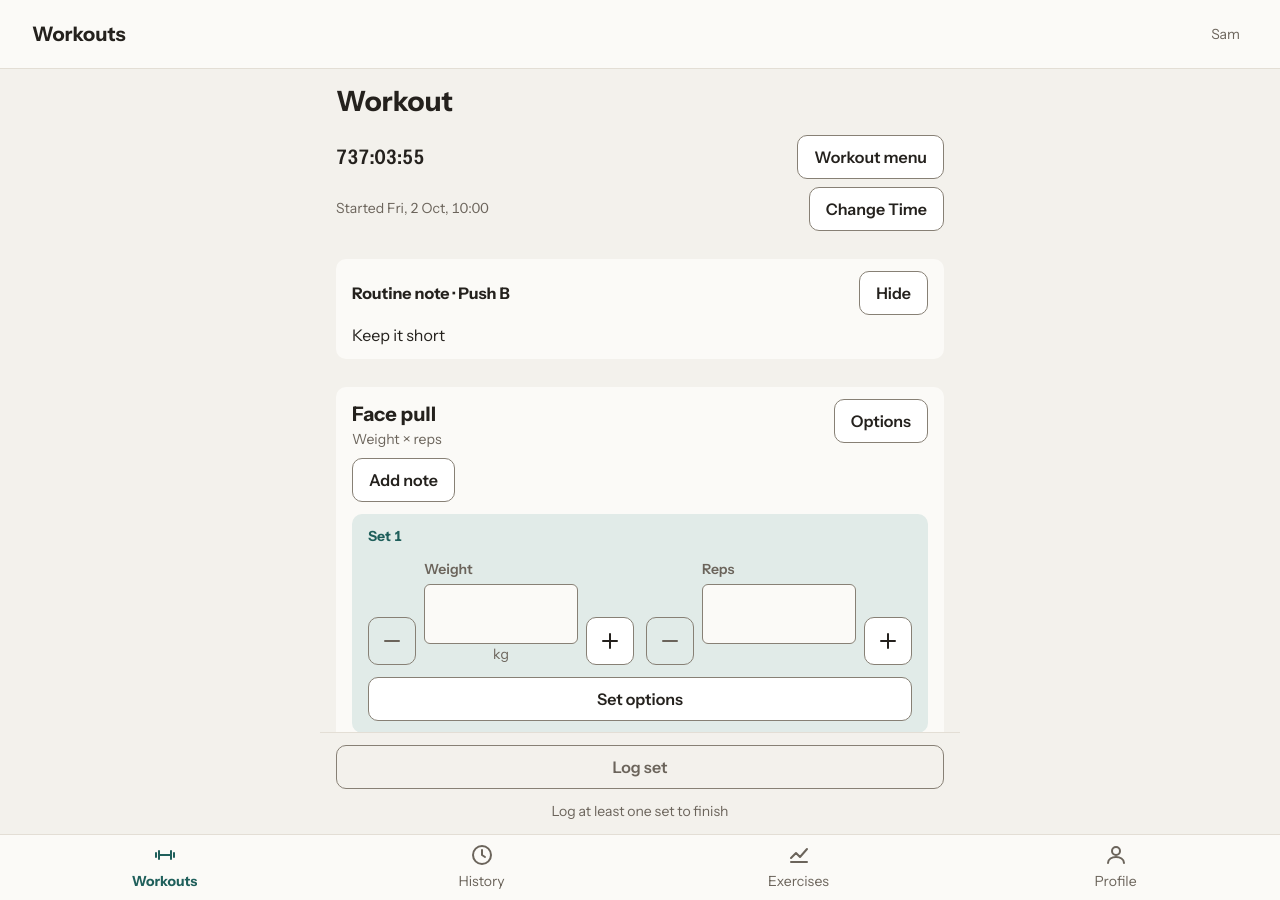
Test: 10.3 AC25 — the routine-note panel › is expanded on mount, headed by the routine name; Hide collapses it to one Show line and Show re-expands it
Expected: the heading "Workout" is shown, [336, 84, 453, 118]
Expected: the text "Keep it short" is shown, [352, 325, 445, 345]
Click the button with aria-label "Hide routine note": (894, 293) [859, 271, 928, 315]
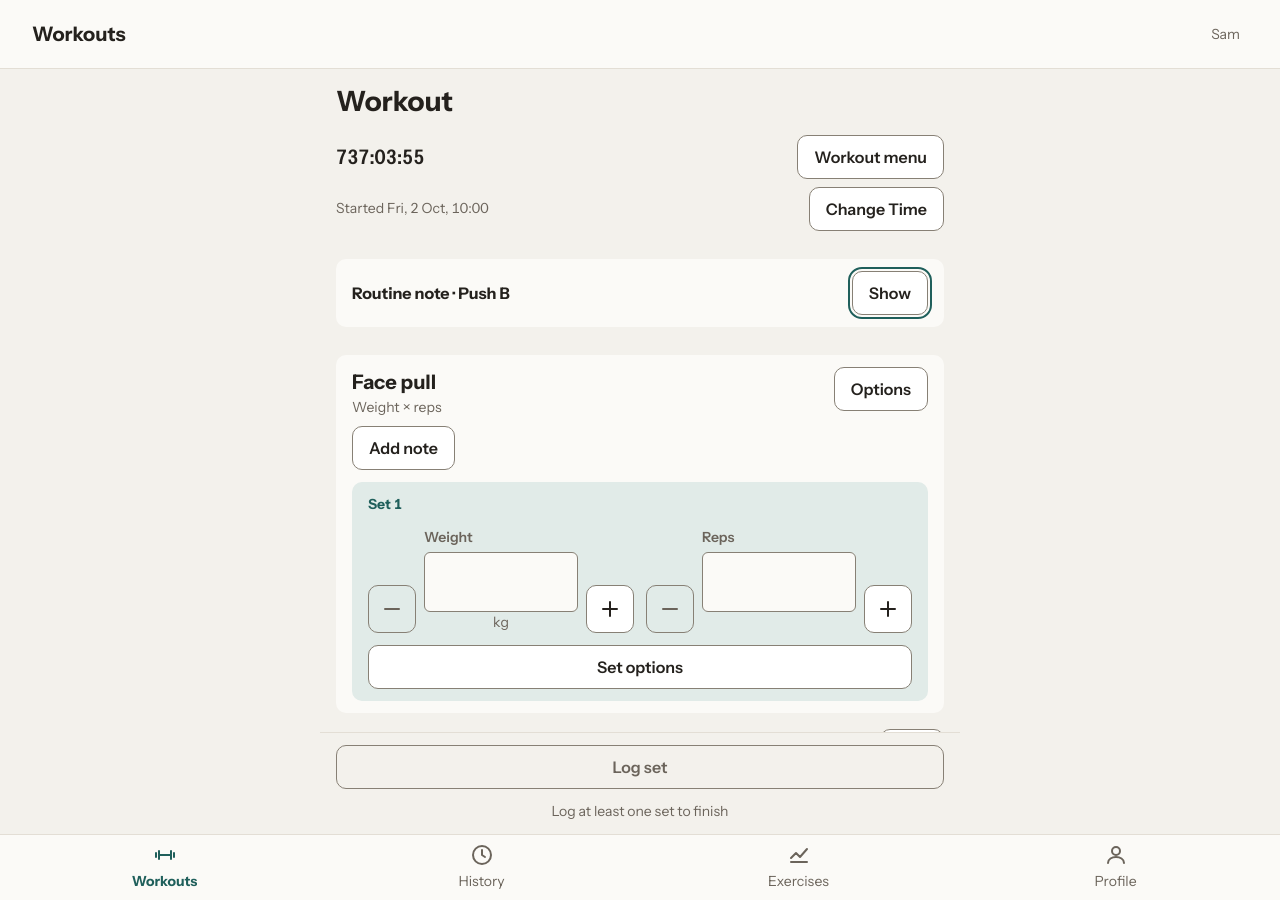
Expected: the text "Keep it short" is gone
Expected: the button with aria-label "Show routine note" is collapsed
Click the button with aria-label "Show routine note": (890, 293) [852, 271, 928, 315]
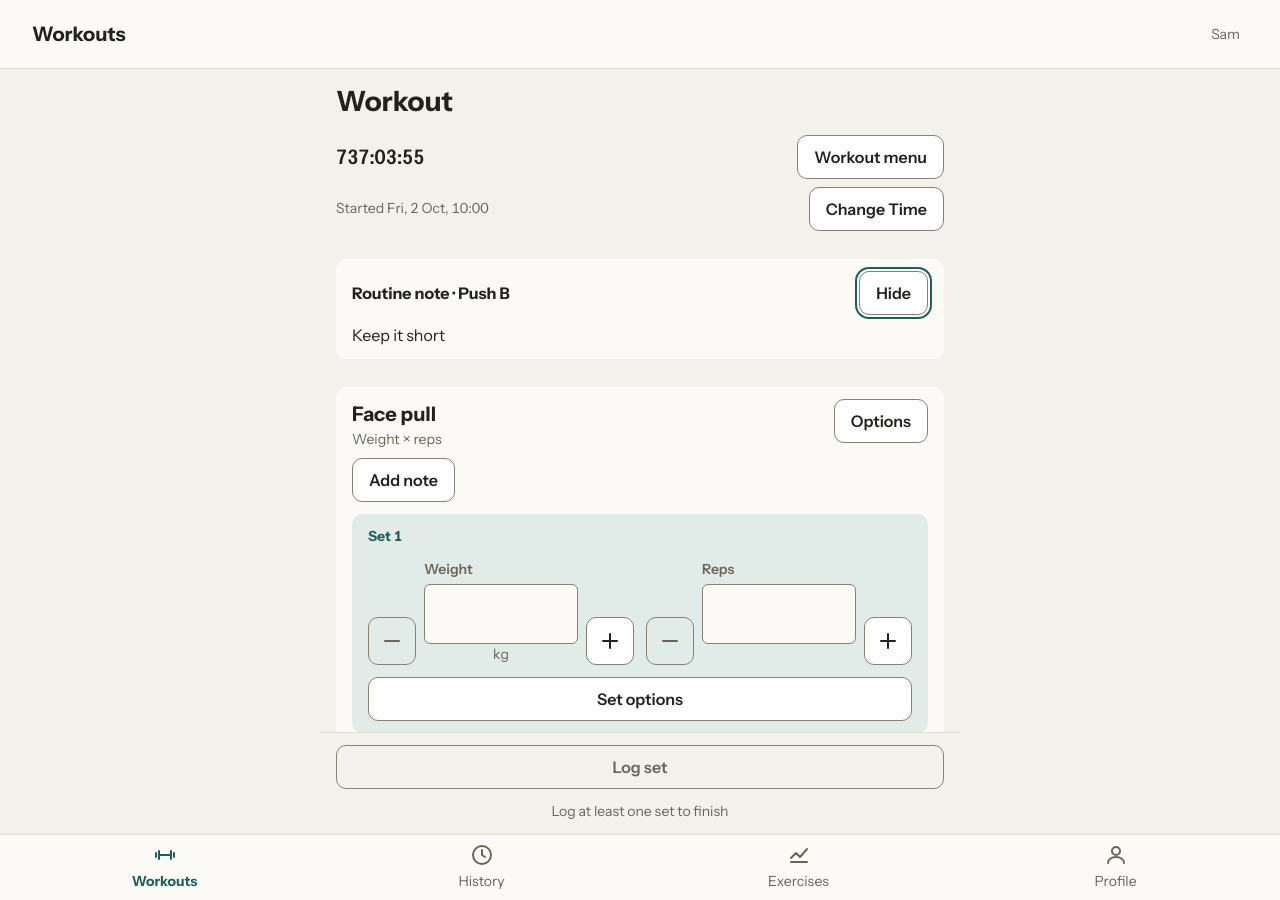
Expected: the text "Keep it short" is shown, [352, 325, 445, 345]
